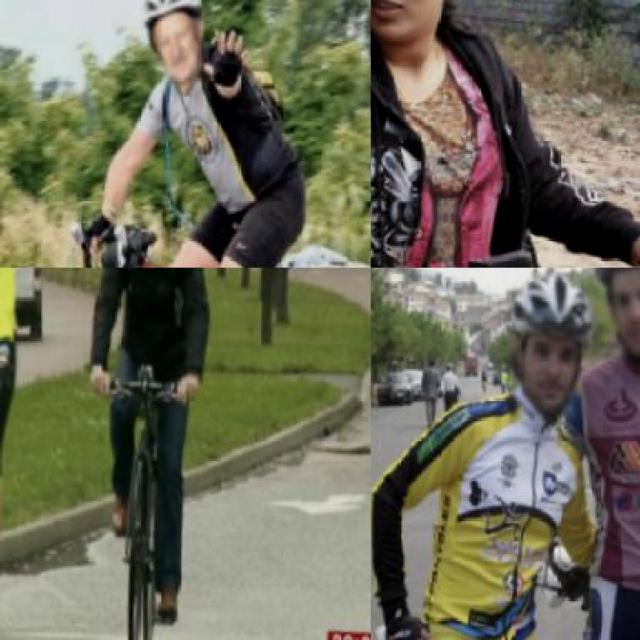With Helmet: (495, 270, 608, 428), (129, 0, 216, 95), (578, 268, 638, 374)
Without Helmet: (371, 0, 486, 69)
